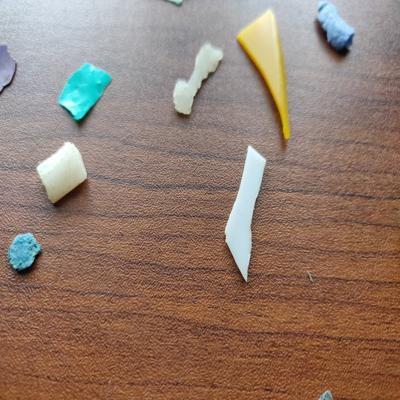plastic: (233, 7, 297, 143), (218, 144, 270, 285), (167, 39, 225, 119), (35, 139, 93, 209), (56, 58, 114, 125), (309, 1, 362, 52), (6, 232, 43, 270), (1, 41, 21, 98)
